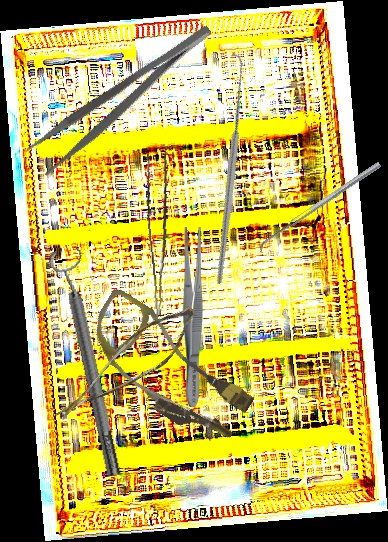Cannula: (71, 286, 266, 452)
Dressing Forceps: (24, 20, 226, 178), (181, 227, 204, 407)
Fixation Ring: (46, 245, 131, 480)
Hook Surgical: (117, 51, 336, 286)
Micro Scissor: (54, 285, 204, 449)
Spatula Surgical: (255, 161, 385, 255)
Tissue Forceps: (141, 152, 181, 317)
